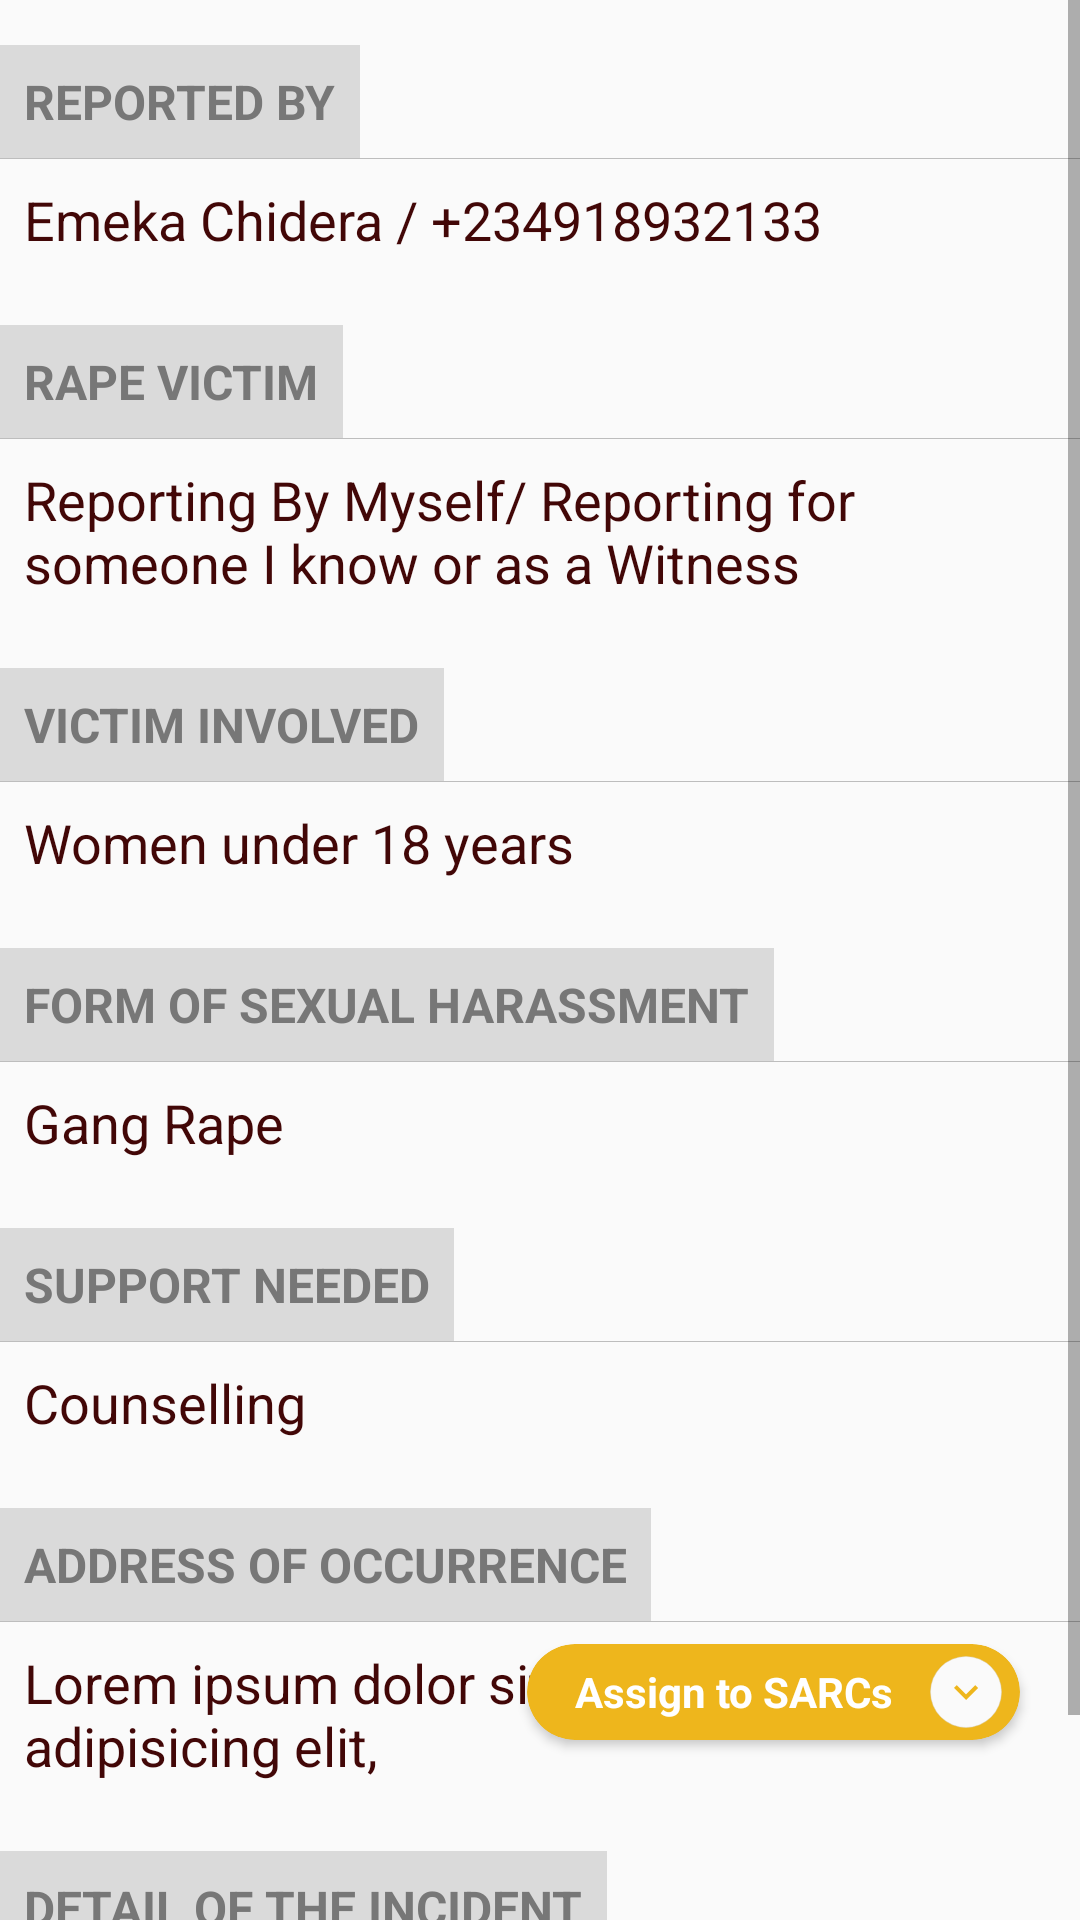

Locate icon controls on the screen. Image size 1080 × 1920, boxes as [x1,y1,x2,y2].
keyboard arrow down: [930,1656,1002,1728]
